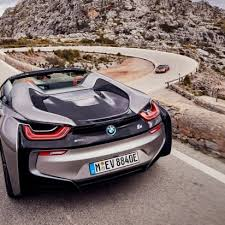car: (1, 63, 185, 211)
